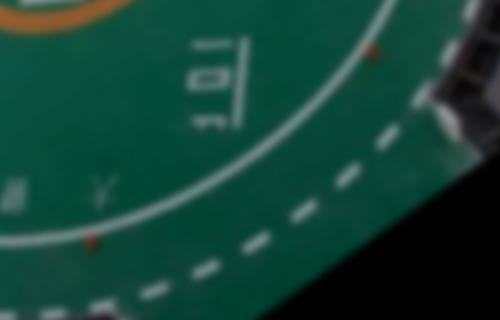Apron: (1, 1, 130, 37)
